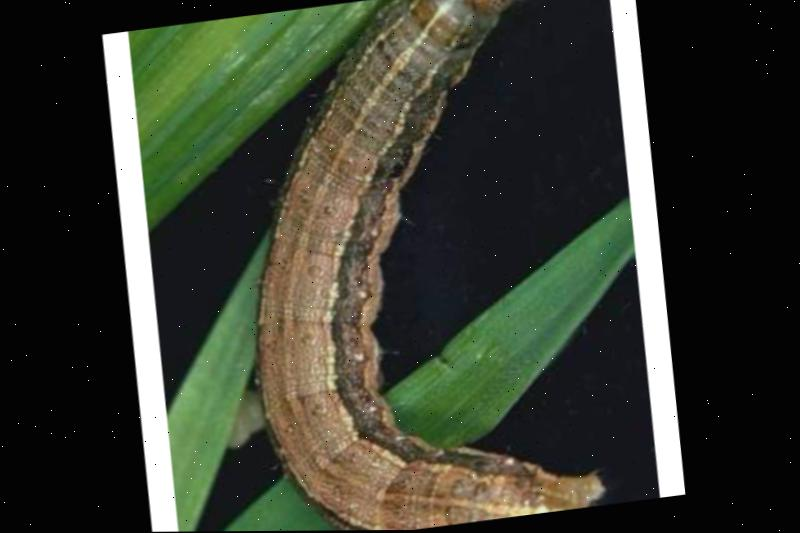fall-armyworm: (259, 1, 612, 532)
